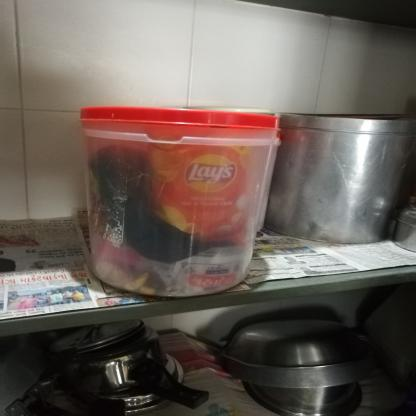hot_and_sweet: (144, 135, 250, 255)
